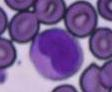M: (30, 28, 84, 80)
